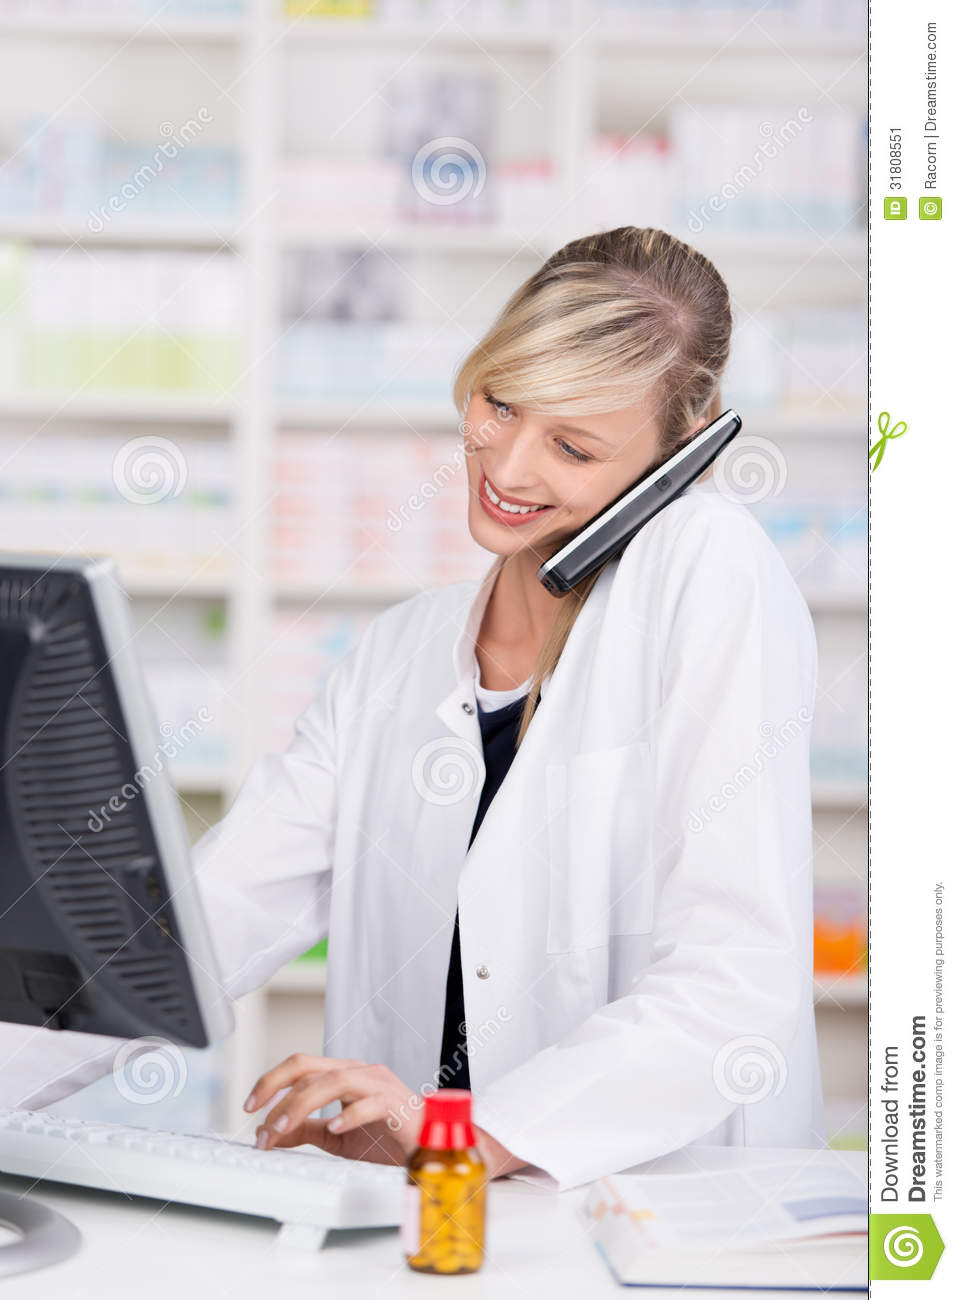talk: (460, 370, 697, 607)
